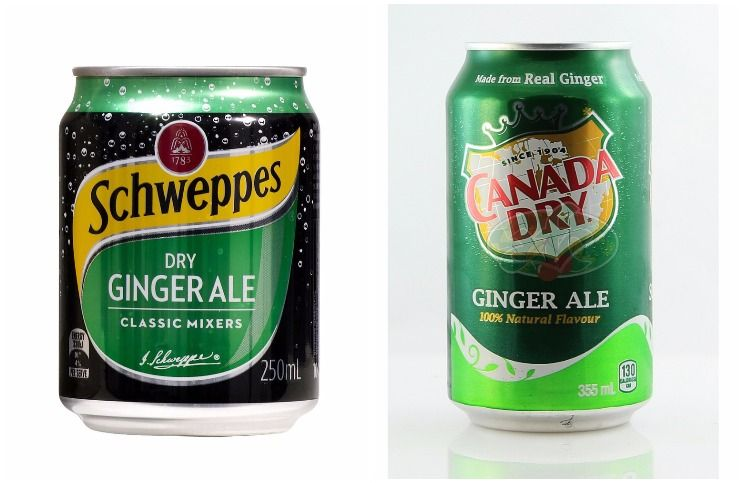Lata: (439, 34, 656, 439)
